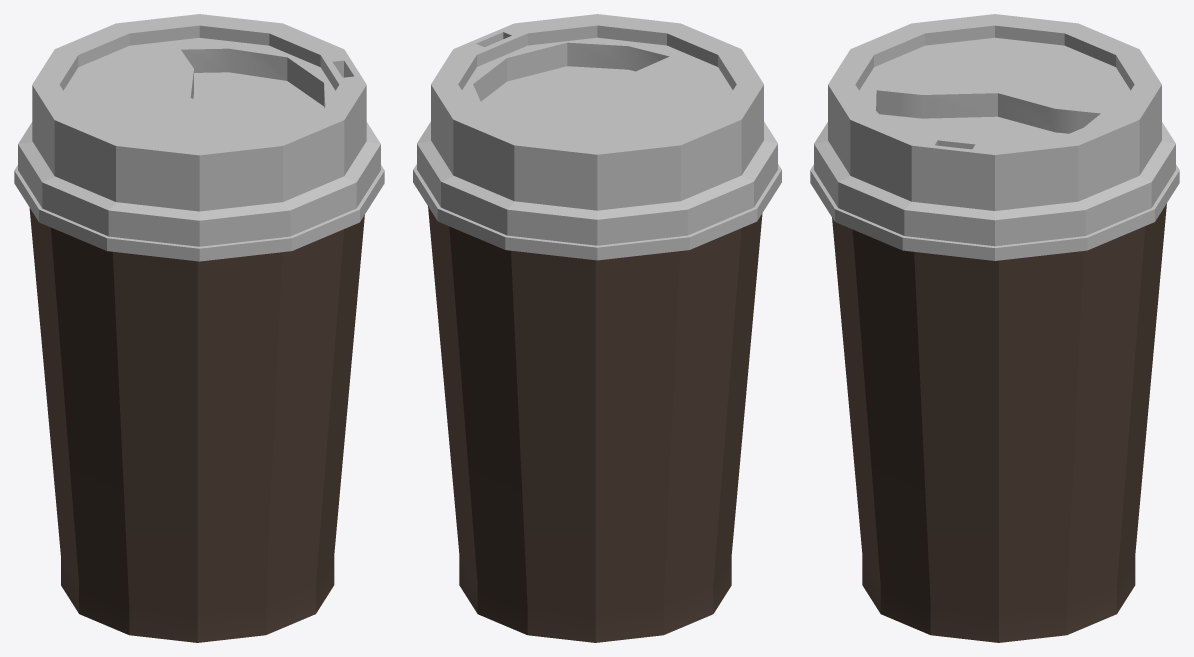
File: Low Poly Coffee Cup.fbx
The picture shows the model from 3 angles, left to right: view 1: azimuth 30°, elevation 25°; view 2: azimuth 150°, elevation 25°; view 3: azimuth 270°, elevation 25°; orthographic projection.
Visible parts, largest first — view 1: pCylinder1, polySurface1; view 2: pCylinder1, polySurface1; view 3: pCylinder1, polySurface1.
Boxes of the visible parts, left/top/right/bottom form: pCylinder1: left=29, top=208, right=364, bottom=642; polySurface1: left=14, top=14, right=384, bottom=261; pCylinder1: left=428, top=206, right=762, bottom=642; polySurface1: left=413, top=14, right=781, bottom=260; pCylinder1: left=832, top=203, right=1166, bottom=642; polySurface1: left=810, top=14, right=1179, bottom=260.
Bounding box in the file's own units: 2.71 × 4.05 × 2.71.
